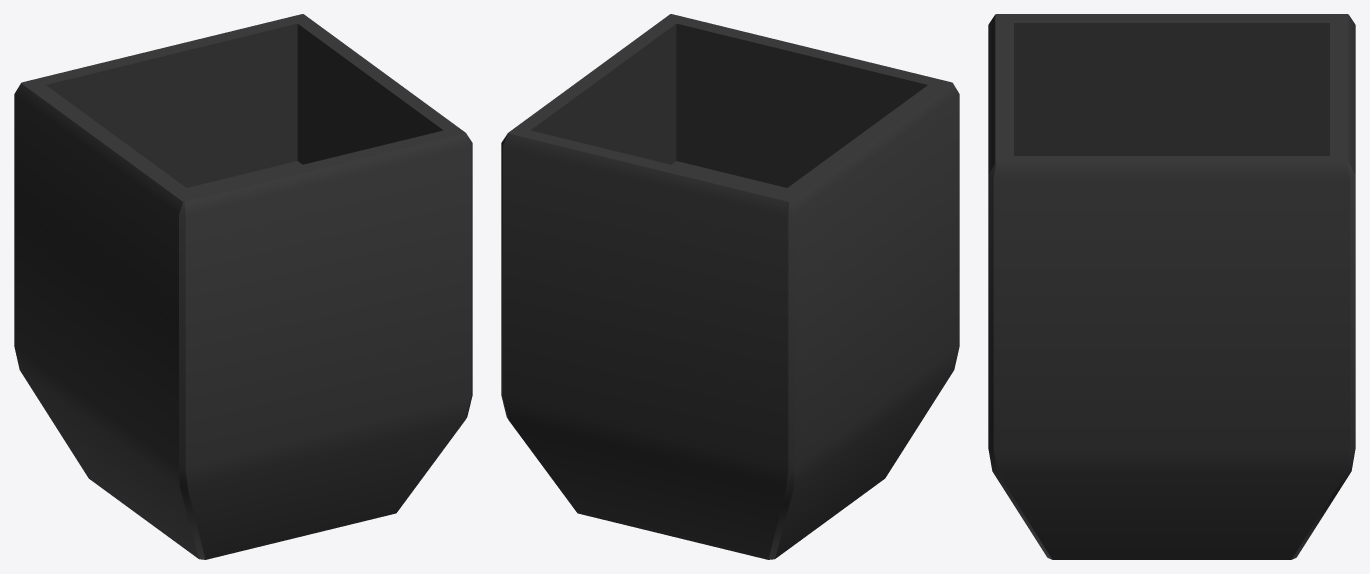
The model's file is PlantPot_c_01.fbx.
3 renders of one model, left to right at view 1: azimuth 30°, elevation 25°; view 2: azimuth 150°, elevation 25°; view 3: azimuth 270°, elevation 25°, orthographic. The views are drawn at different scales.
Parts seen in each view (by area): view 1: PlantPot_c_01; view 2: PlantPot_c_01; view 3: PlantPot_c_01.
Boxes of the visible parts, left/top/right/bottom form: PlantPot_c_01: left=14, top=14, right=472, bottom=559; PlantPot_c_01: left=501, top=14, right=959, bottom=559; PlantPot_c_01: left=988, top=14, right=1355, bottom=559.
Size of the model in its own units: 4.46 by 5.61 by 4.46.
